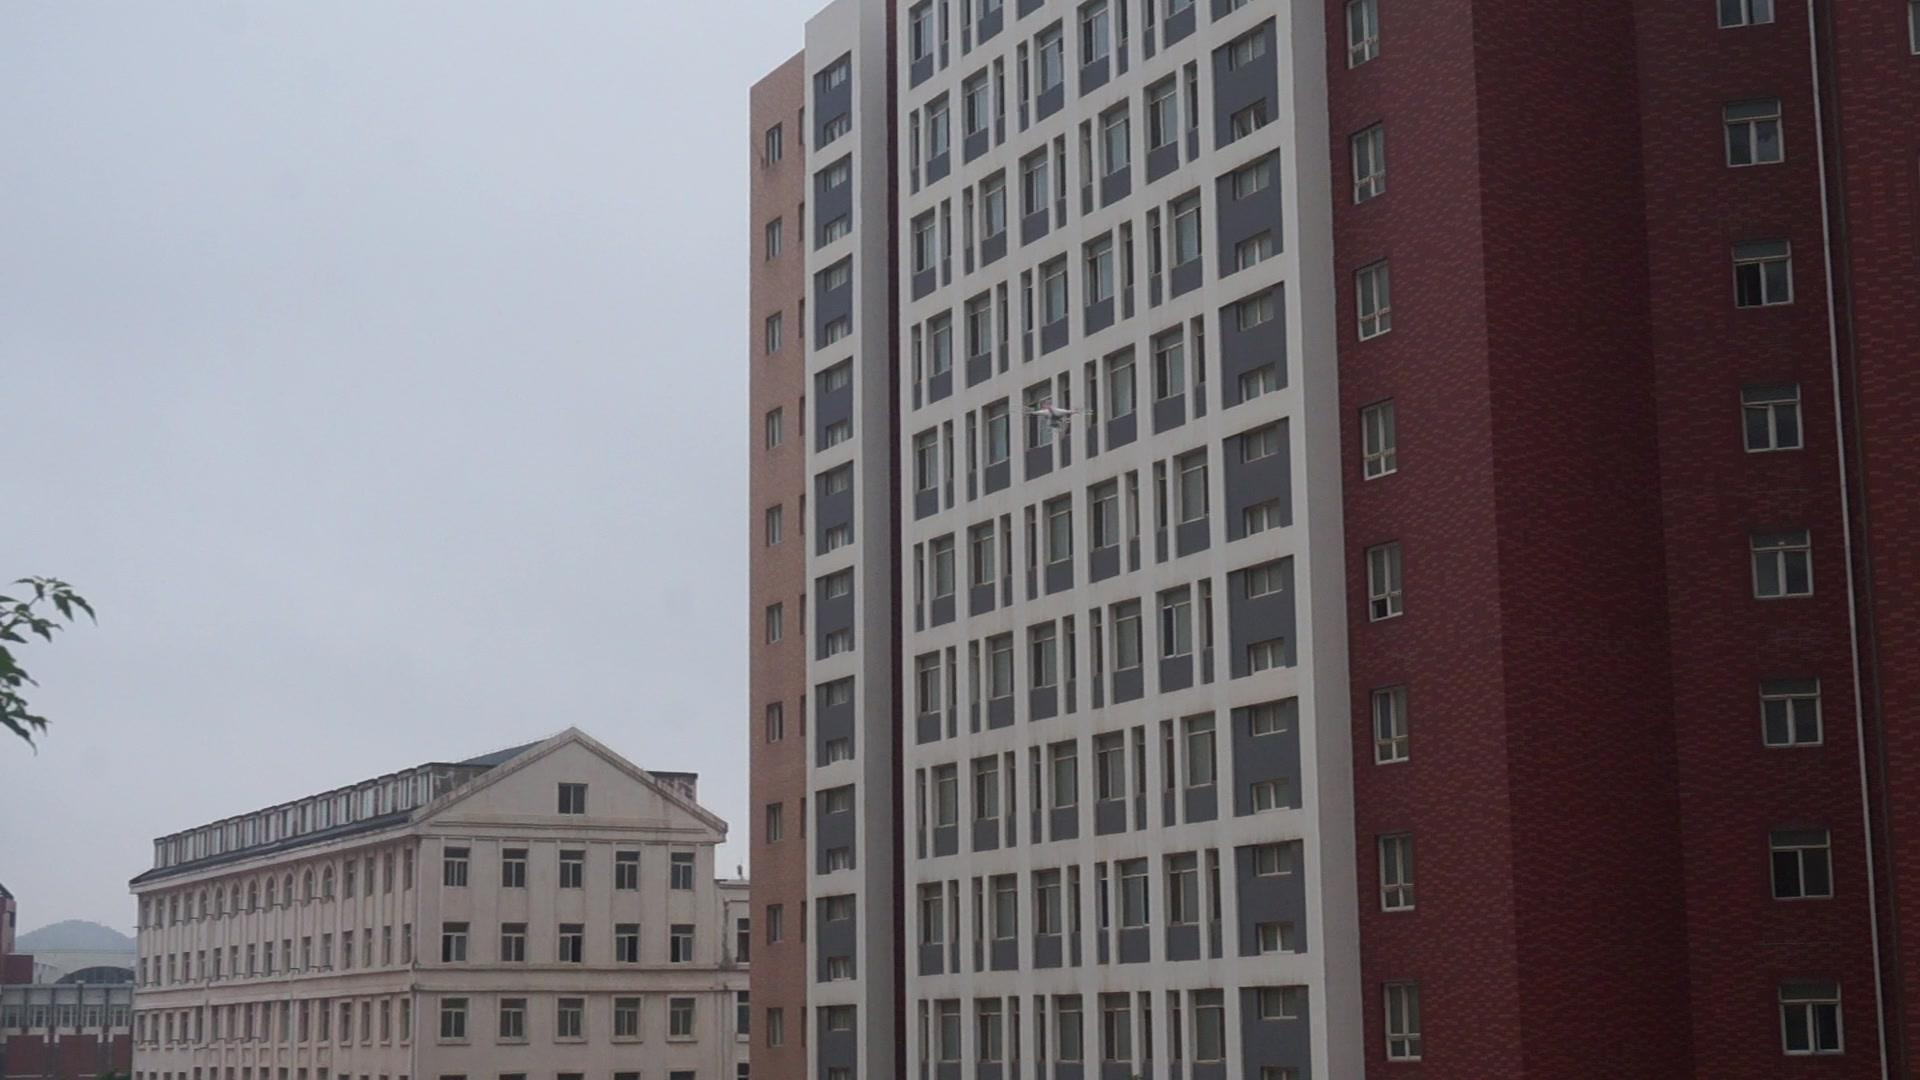UAV: (1021, 406, 1095, 429)
